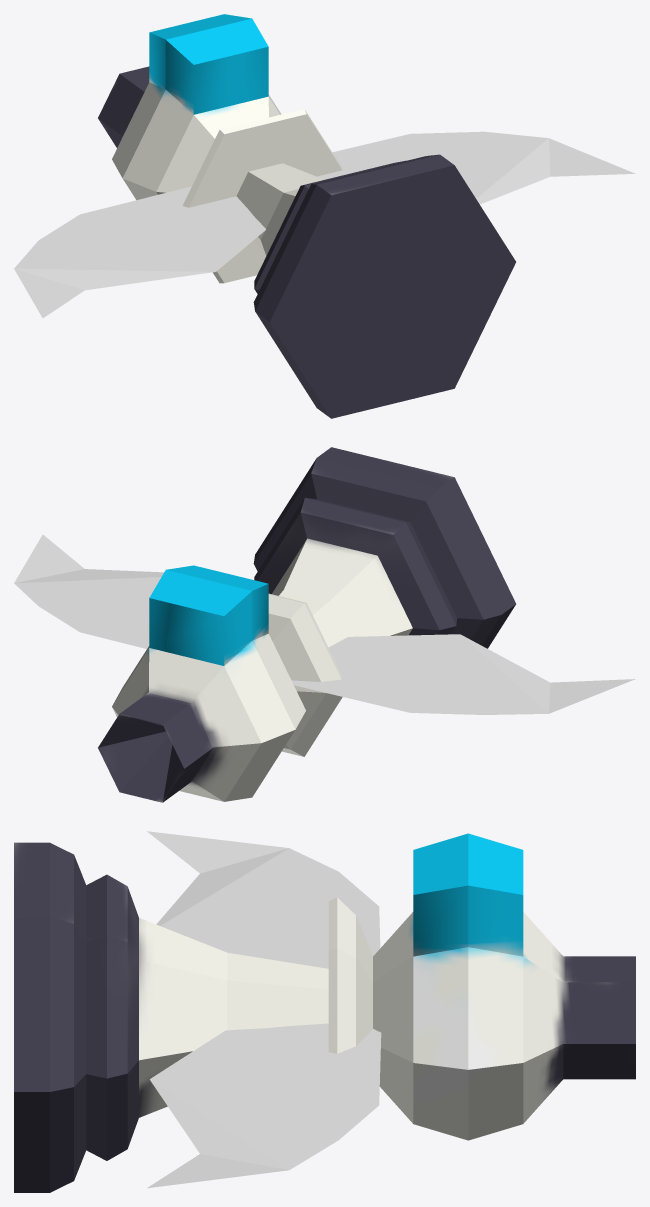
Rendered from White Pawn.glb.
3 renders of one model, top to bottom at view 1: azimuth 30°, elevation 25°; view 2: azimuth 150°, elevation 25°; view 3: azimuth 270°, elevation 25°, orthographic. The views are drawn at different scales.
Visible parts, largest first — view 1: Pawn; view 2: Pawn; view 3: Pawn.
Part boxes in pixels (x1,y1,x2,y2): Pawn: (14, 14, 635, 418); Pawn: (14, 447, 635, 802); Pawn: (14, 831, 635, 1192).
Bounding box in the file's own units: 1.82 × 0.7031 × 1.34.
2 materials, 1 textured.
